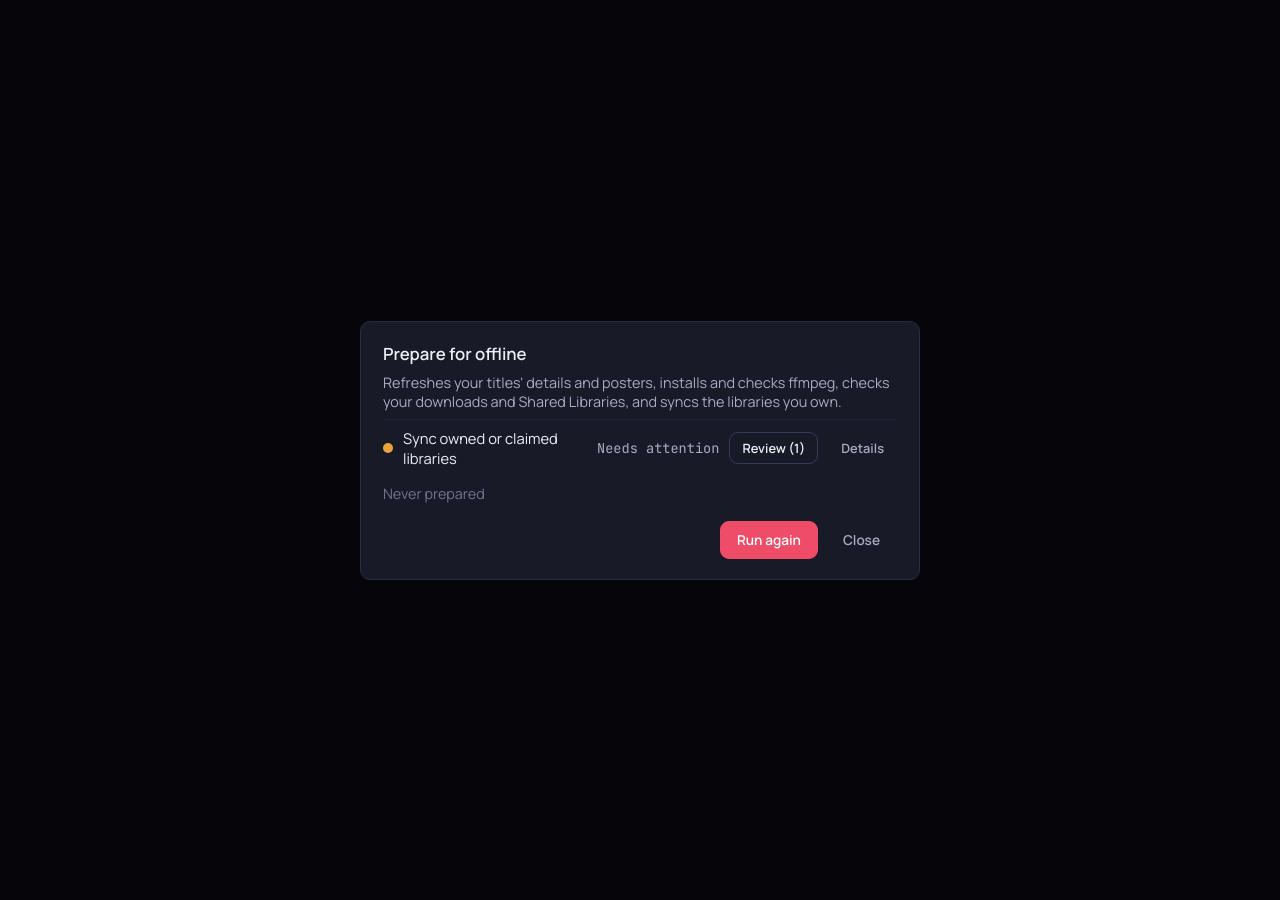
Test: Prepare for offline finds conflicts › the library step's Review (the sheet's count, as in the toast) opens the sheet above the panel
Click the button with test id "prepare-offline-review": (774, 448) [729,432,818,464]
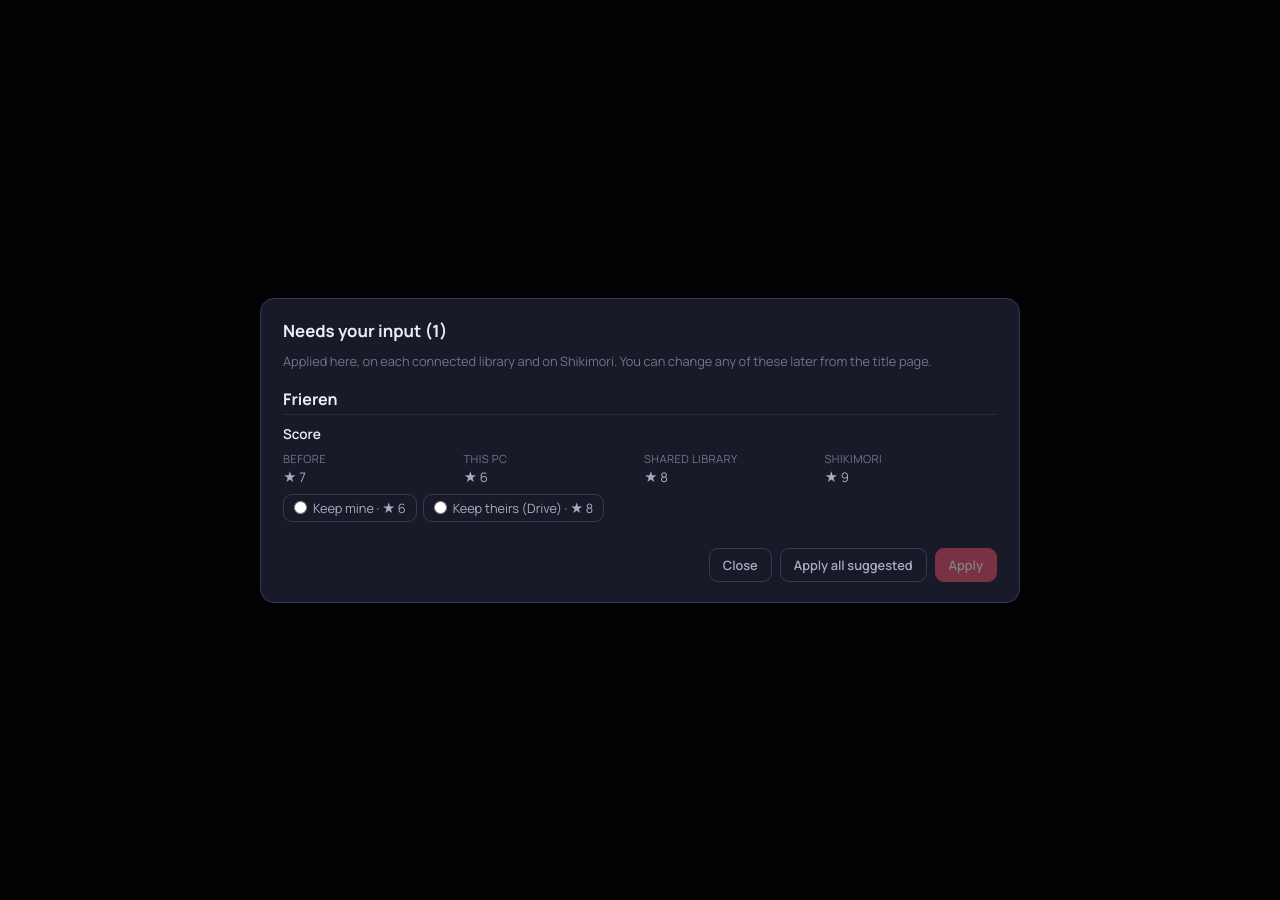
Expected: the element with test id "conflict-review-backdrop" is shown
Expected: the text with test id "review-title" reads "Needs your input (1)", [283,318,447,342]
